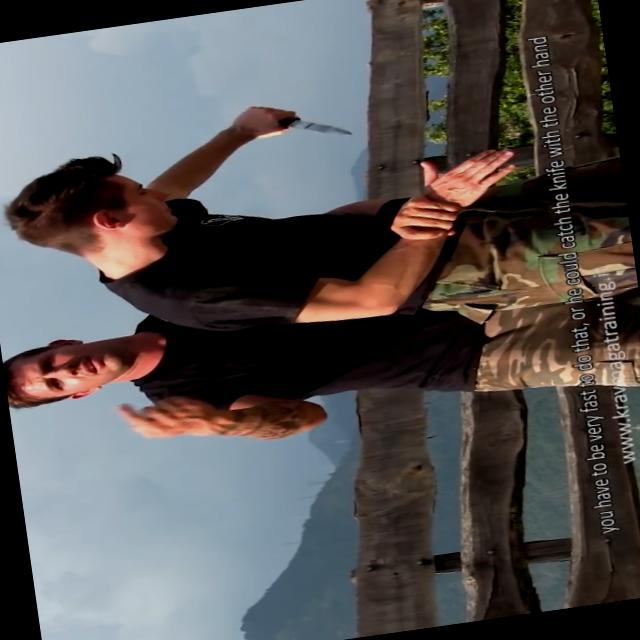knife: (239, 90, 359, 156)
